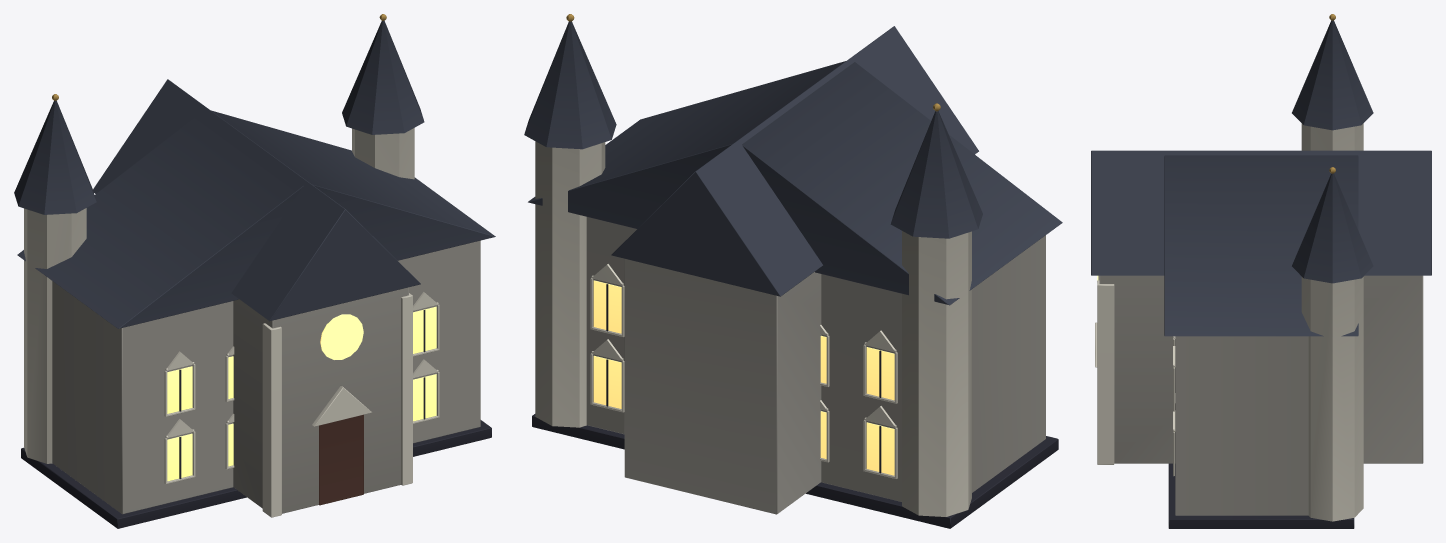
Rendered from env_mansion_b.glb.
3 renders of one model, left to right at view 1: azimuth 30°, elevation 25°; view 2: azimuth 150°, elevation 25°; view 3: azimuth 270°, elevation 25°, orthographic. The views are drawn at different scales.
Parts seen in each view (by area): view 1: env_mansion_b, windows; view 2: env_mansion_b, windows; view 3: env_mansion_b.
Part boxes in pixels (bbox=[...]): env_mansion_b: bbox=[14, 14, 495, 528]; windows: bbox=[167, 306, 436, 481]; env_mansion_b: bbox=[524, 14, 1062, 528]; windows: bbox=[593, 280, 894, 475]; env_mansion_b: bbox=[1091, 14, 1431, 528].
Bounding box in the file's own units: 10.3 × 8.98 × 7.9.
